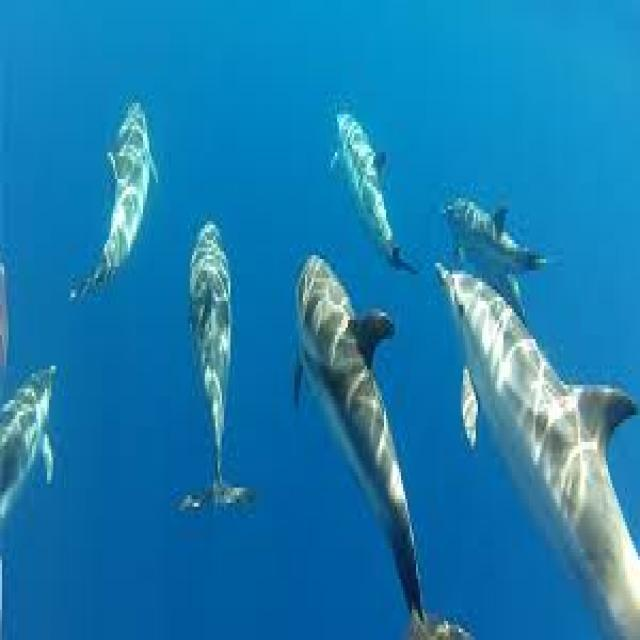dolphin: (441, 244, 640, 625), (286, 228, 429, 640), (160, 175, 243, 556)
